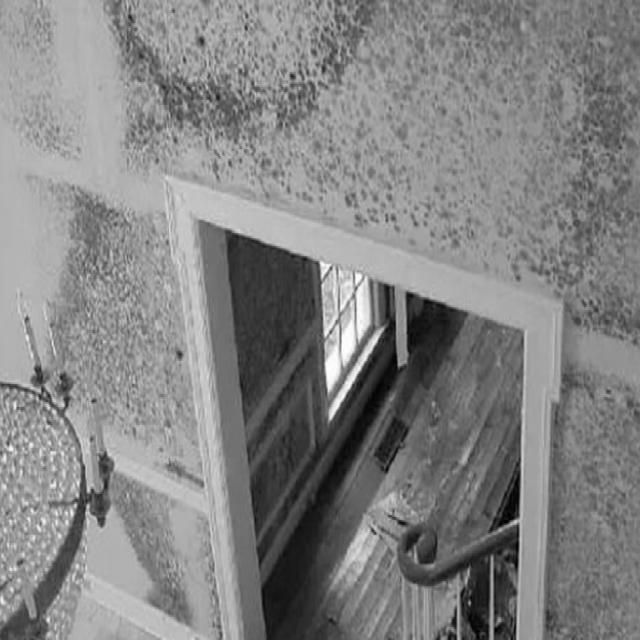stain marks: (101, 0, 639, 184), (58, 179, 199, 469), (298, 186, 639, 264), (544, 364, 638, 638), (112, 472, 225, 640), (0, 0, 81, 164), (566, 268, 639, 340)
